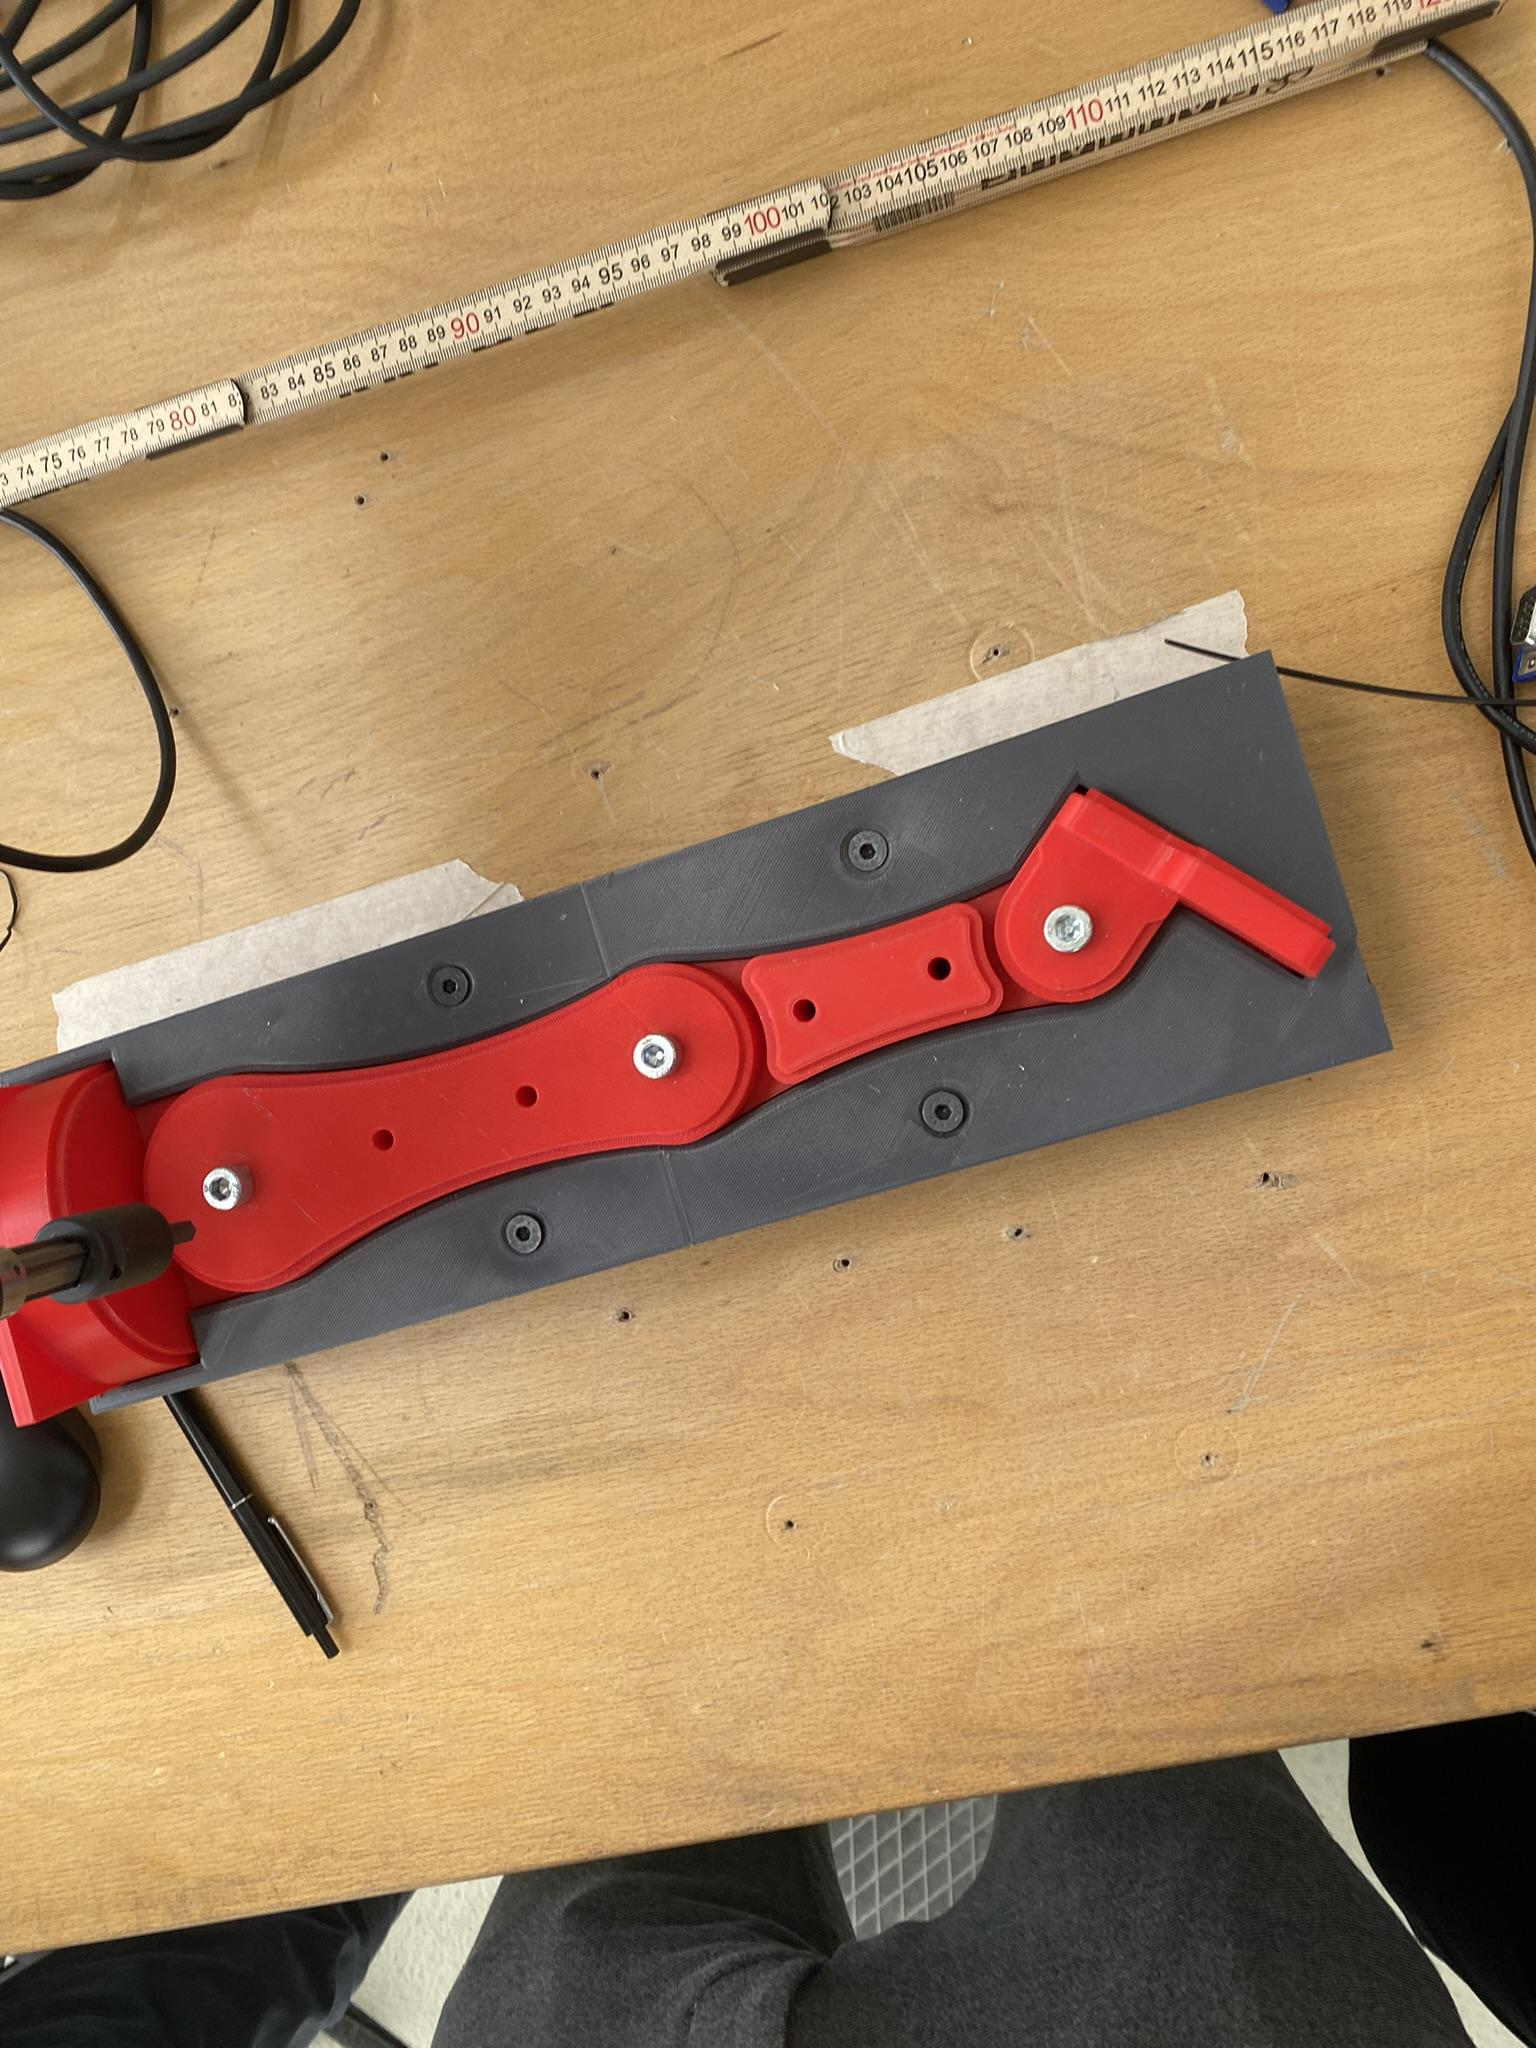H: (921, 1089, 968, 1135), (1044, 905, 1092, 950), (634, 1034, 678, 1077), (200, 1168, 244, 1208), (849, 830, 887, 872), (507, 1214, 544, 1255), (431, 966, 468, 1005)
